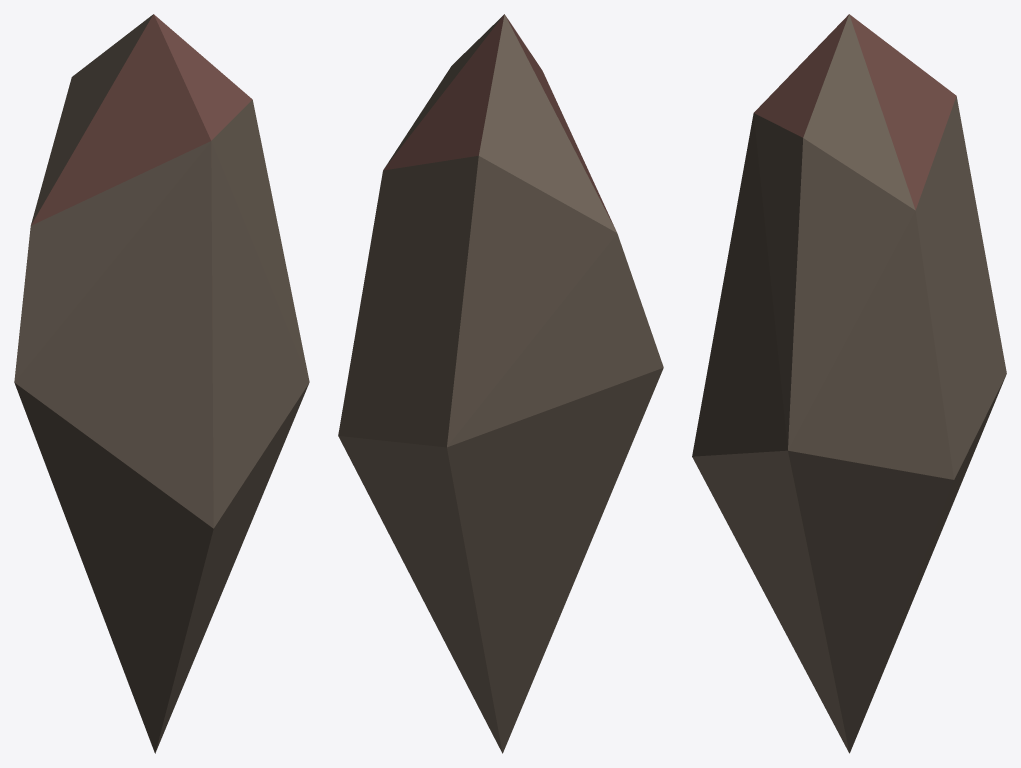
Rendered from Plant_2.lod4.glb.
3 renders of one model, left to right at view 1: azimuth 30°, elevation 25°; view 2: azimuth 150°, elevation 25°; view 3: azimuth 270°, elevation 25°, orthographic.
Parts seen in each view (by area): view 1: Plant_2; view 2: Plant_2; view 3: Plant_2.
Boxes of the visible parts, box(x1,y1,x2,y2) form: Plant_2: box(14, 14, 309, 753); Plant_2: box(338, 14, 663, 753); Plant_2: box(692, 14, 1006, 753).
Size of the model in its own units: 0.6937 by 1.79 by 0.6902.
